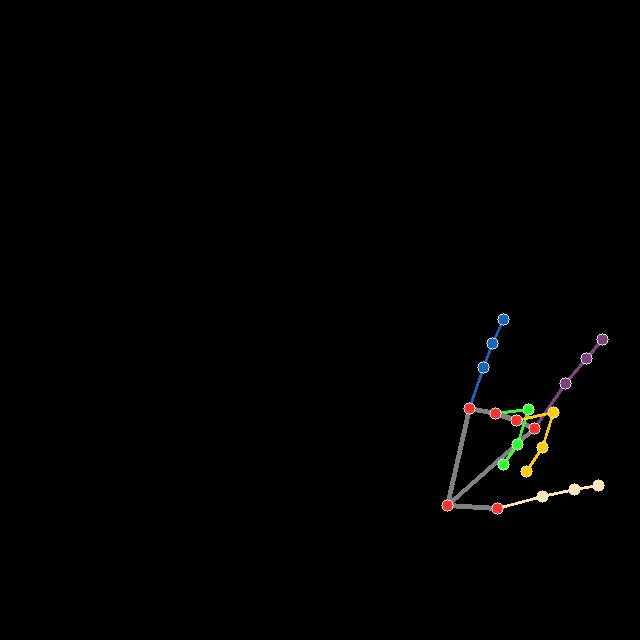spiderman: (442, 313, 608, 515)
